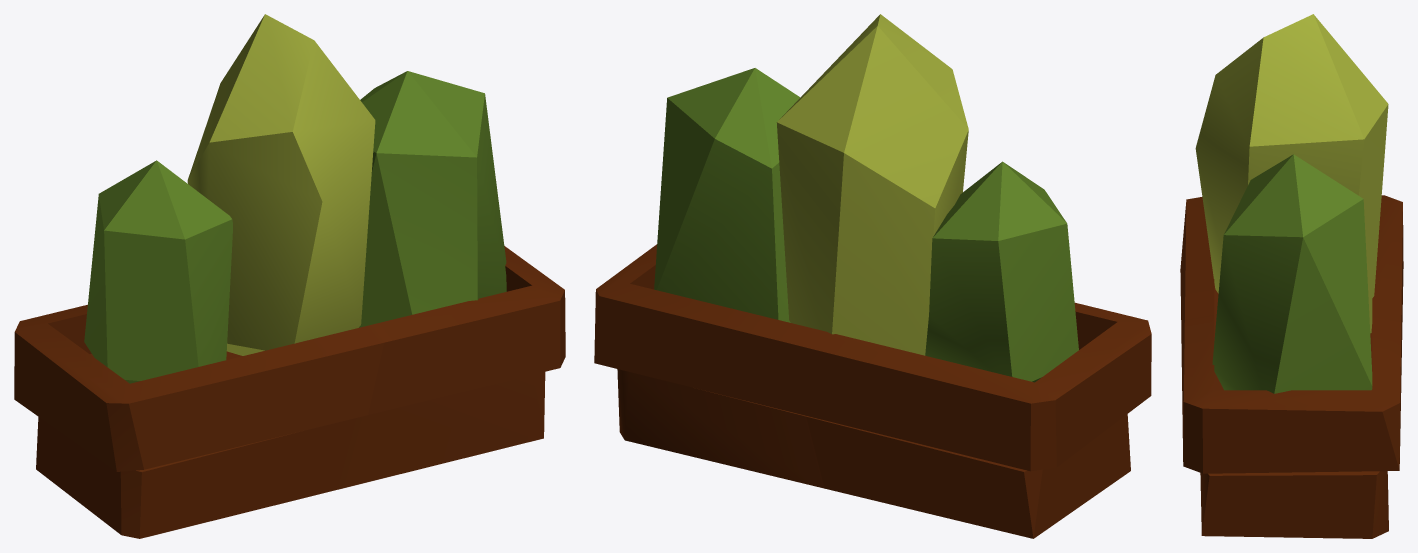
File: Shrub 4 Fractured.fbx
The picture shows the model from 3 angles, left to right: view 1: azimuth 30°, elevation 25°; view 2: azimuth 150°, elevation 25°; view 3: azimuth 270°, elevation 25°; orthographic projection. The views are drawn at different scales.
Parts seen in each view (by area): view 1: Shrub_04_Breaking, Shrub_04_Breaking.001; view 2: Shrub_04_Breaking, Shrub_04_Breaking.001; view 3: Shrub_04_Breaking.001, Shrub_04_Breaking.
Part boxes in pixels (x1,y1,x2,y2): Shrub_04_Breaking: (14,14,383,538); Shrub_04_Breaking.001: (338,71,565,489); Shrub_04_Breaking: (776,14,1151,538); Shrub_04_Breaking.001: (594,68,824,488); Shrub_04_Breaking.001: (1182,154,1401,538); Shrub_04_Breaking: (1180,14,1403,374).
Bounding box in the file's own units: 107 × 97.18 × 46.85.
